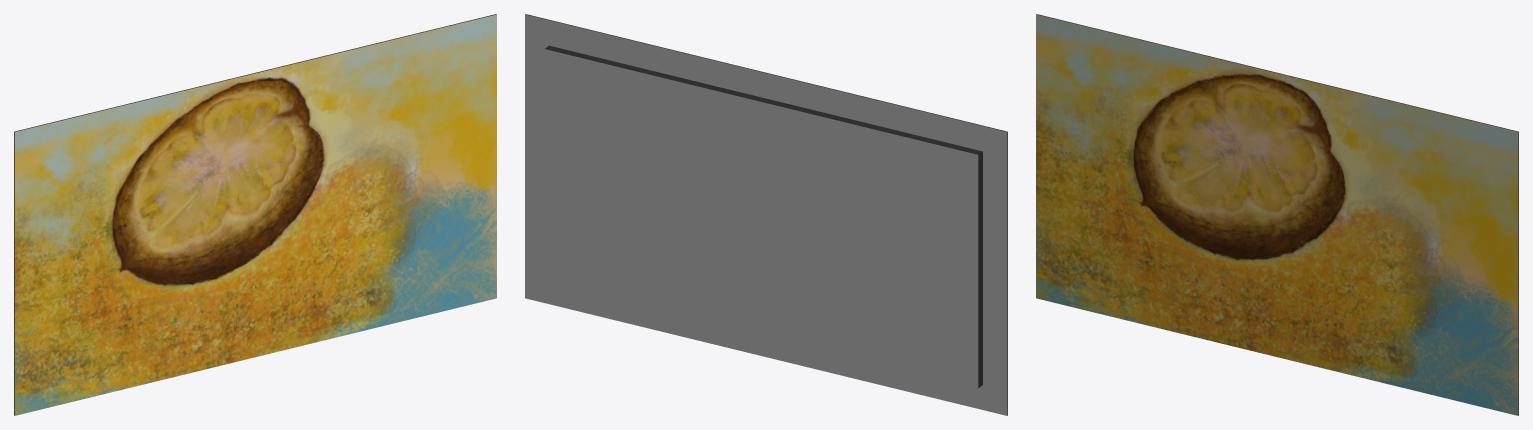
The model's file is hz032_grand_dibond.glb.
3 views of the same model, side by side, from view 1: azimuth 30°, elevation 25°; view 2: azimuth 150°, elevation 25°; view 3: azimuth 330°, elevation 25° (orthographic).
Visible parts, largest first — view 1: hz032_grand_dibond; view 2: hz032_grand_dibond; view 3: hz032_grand_dibond.
Boxes of the visible parts, <box> form: hz032_grand_dibond: <box>14,14,496,415</box>; hz032_grand_dibond: <box>525,14,1007,415</box>; hz032_grand_dibond: <box>1036,14,1518,415</box>.
Bounding box in the file's own units: 1.2 × 0.675 × 0.023.
Materials: 4 (1 with a texture image).
